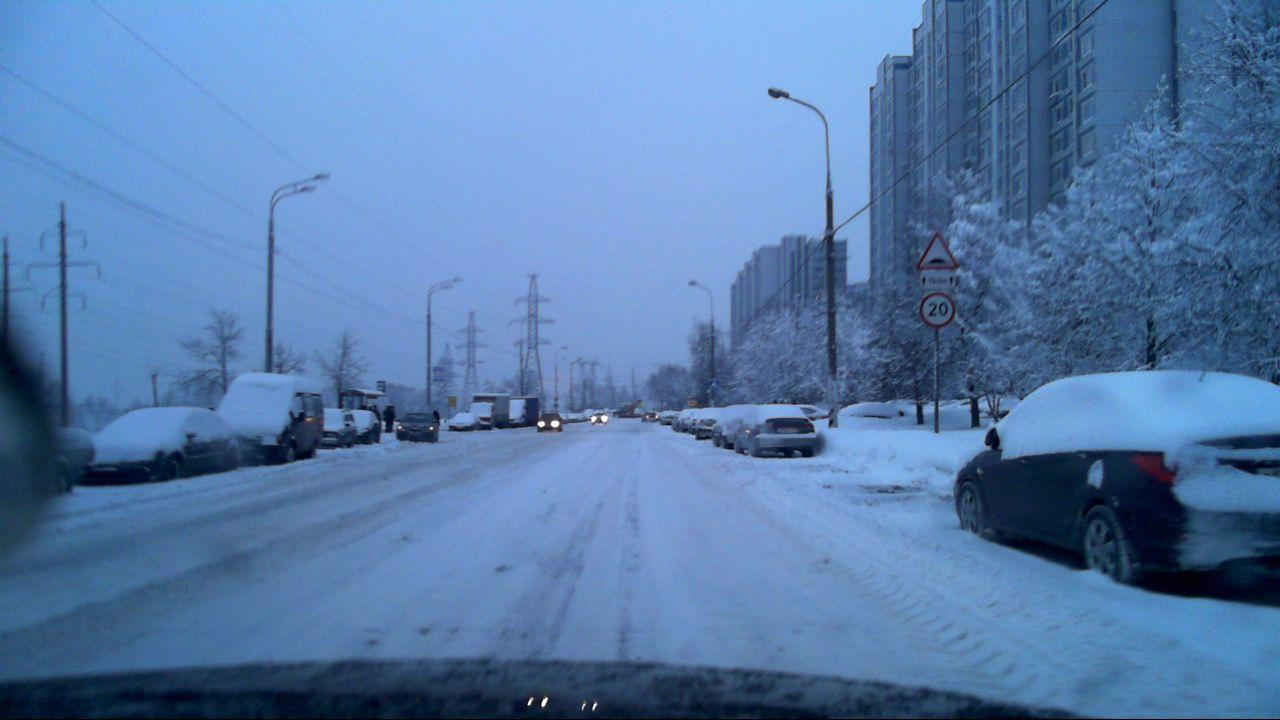1_17: (912, 232, 958, 266)
3_24: (921, 293, 957, 327)
8_2_1: (918, 270, 961, 290)
